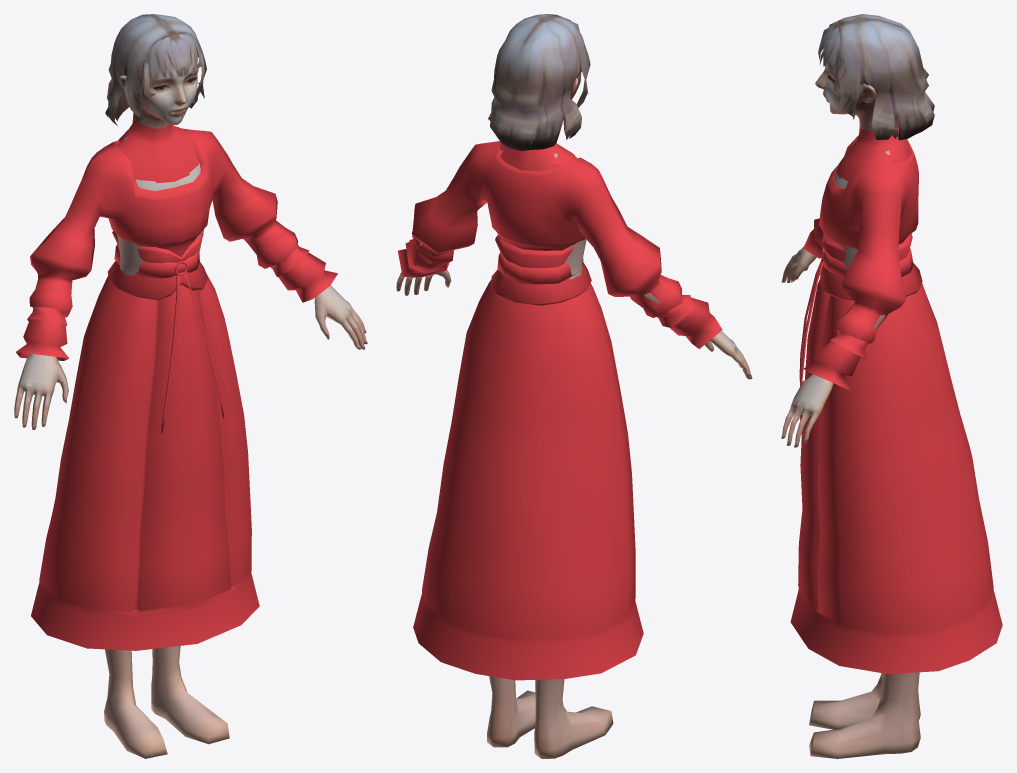
File: Lorna3_test.fbx
3 views of the same model, side by side, from view 1: azimuth 30°, elevation 25°; view 2: azimuth 150°, elevation 25°; view 3: azimuth 270°, elevation 25° (orthographic).
Visible parts, largest first — view 1: Dress, Lorna, SCALP.001; view 2: Dress, SCALP.001, Lorna; view 3: Dress, Lorna, SCALP.001.
Part boxes in pixels (x1=…): Dress: x1=16, y1=116, x2=337, y2=650; Lorna: x1=14, y1=47, x2=367, y2=758; SCALP.001: x1=105, y1=14, x2=206, y2=125; Dress: x1=398, y1=141, x2=722, y2=680; SCALP.001: x1=488, y1=14, x2=590, y2=150; Lorna: x1=396, y1=73, x2=752, y2=758; Dress: x1=790, y1=121, x2=1002, y2=673; Lorna: x1=781, y1=49, x2=920, y2=758; SCALP.001: x1=818, y1=14, x2=934, y2=140.
Size of the model in its own units: 189 by 363 by 102.
